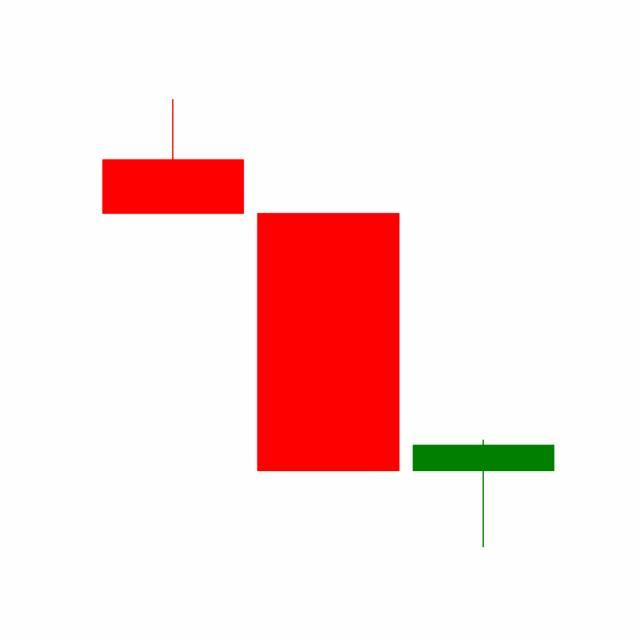Hammer: (406, 439, 562, 550)
